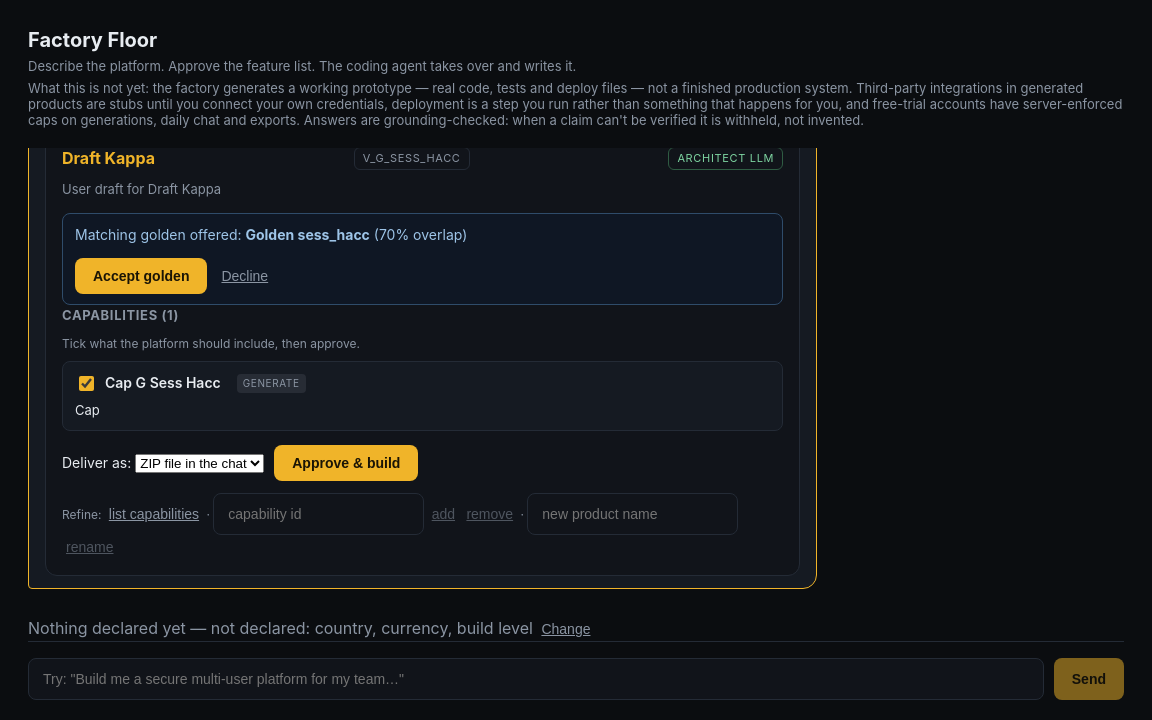
Floor header follows the resolved design (F-4b, F6) › after Accept the header shows the golden product_name, not the draft
This screenshot has width=1152, height=720.
(page scrolled)
Click the button with test id "bp-accept-golden" at (141, 276), box [75,258,208,294]
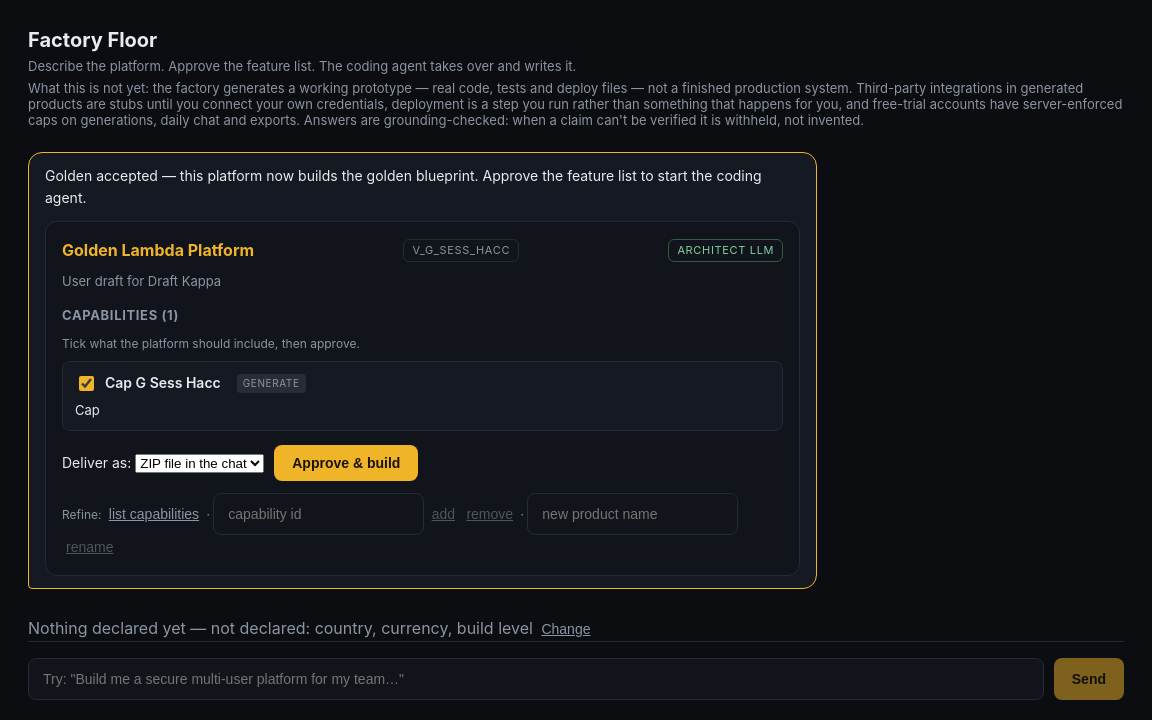
Check: the element with test id "bp-golden-offer" is gone
Click the button "Approve & build" at (346, 463), box [274,445,418,481]
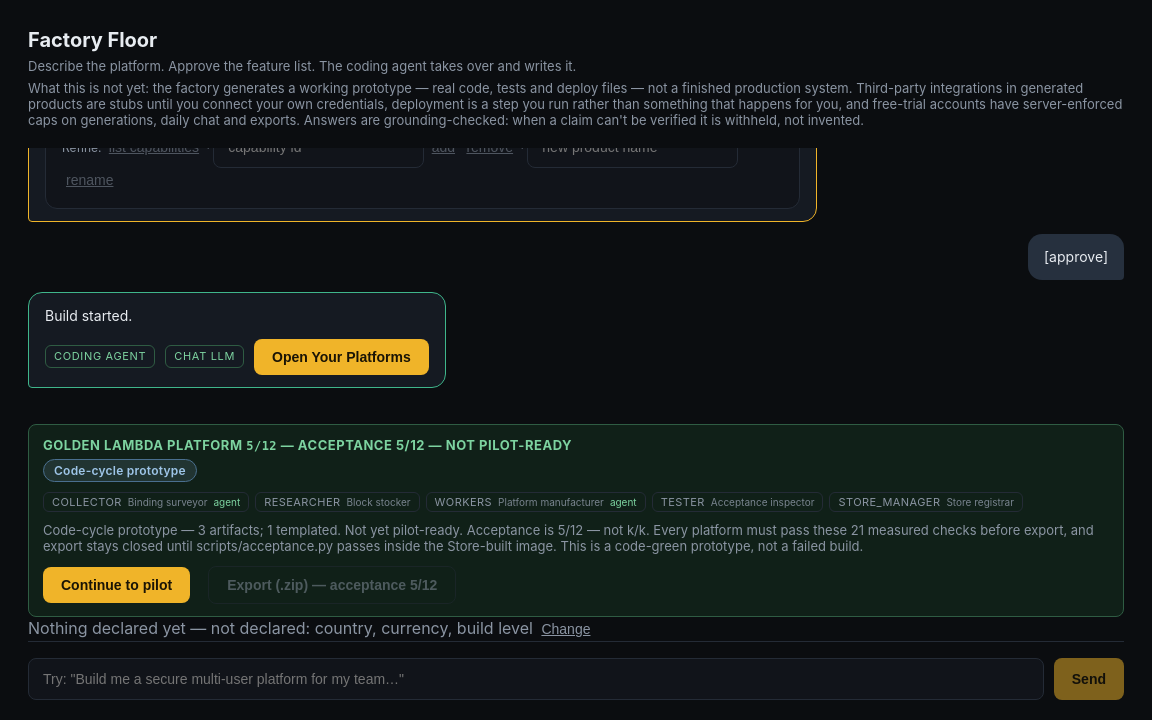
Check: the text with test id "floor-product-title" reads "Golden Lambda Platform", box [43,437,242,453]
Check: the text with test id "floor-product-title" no longer shows "Draft Kappa", box [43,437,242,453]
